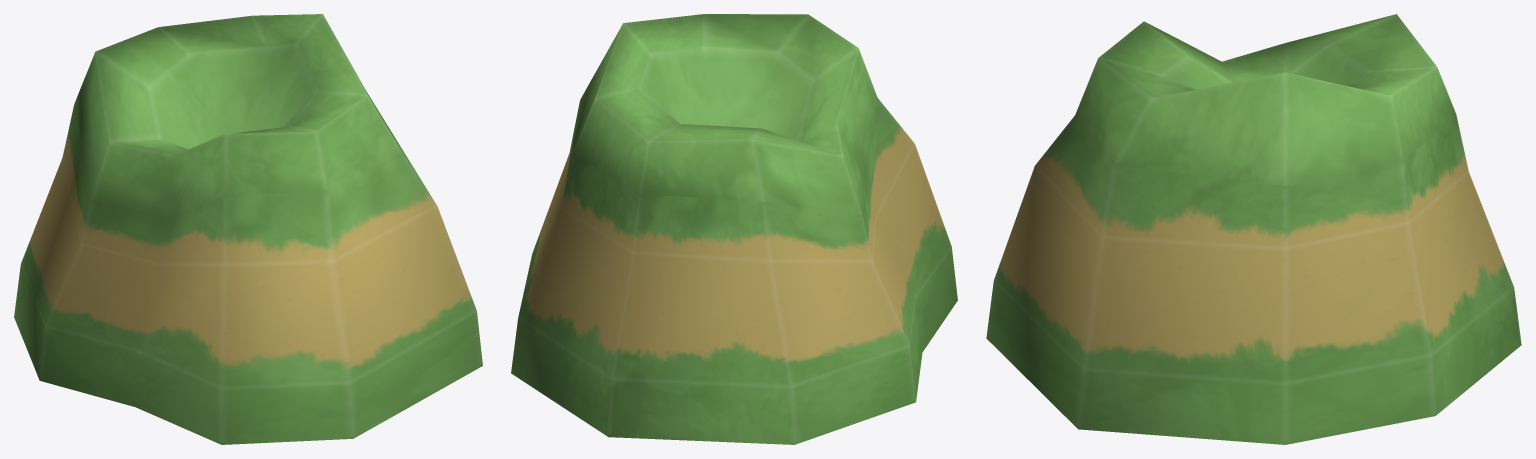
File: env_Terran_Cliff_D.FBX
The picture shows the model from 3 angles, left to right: view 1: azimuth 30°, elevation 25°; view 2: azimuth 150°, elevation 25°; view 3: azimuth 270°, elevation 25°; orthographic projection. The views are drawn at different scales.
Visible parts, largest first — view 1: env_Terran_Cliff_D; view 2: env_Terran_Cliff_D; view 3: env_Terran_Cliff_D.
Boxes of the visible parts, x1=… form: env_Terran_Cliff_D: x1=14, y1=14, x2=482, y2=444; env_Terran_Cliff_D: x1=511, y1=14, x2=957, y2=444; env_Terran_Cliff_D: x1=986, y1=14, x2=1521, y2=444.
Size of the model in its own units: 1549 by 1168 by 1755.
